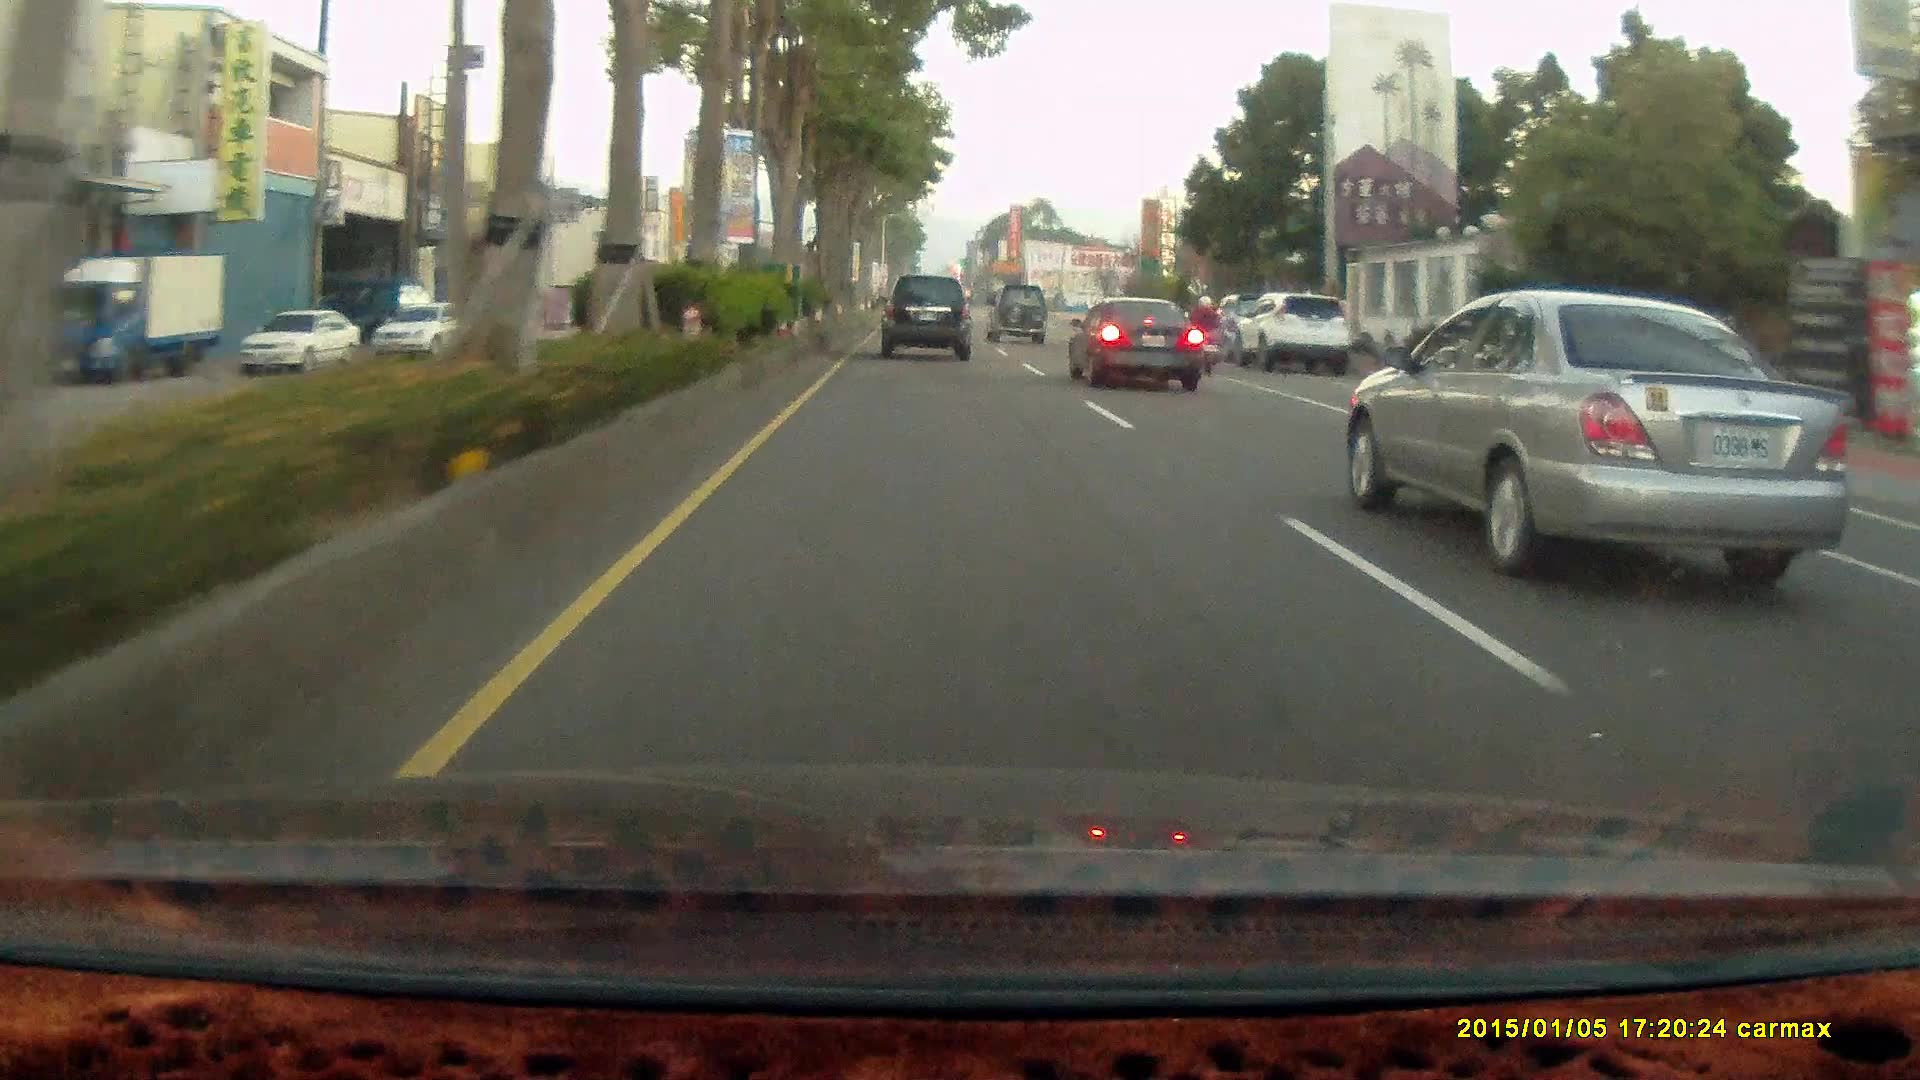rider: (1183, 293, 1220, 372)
vehicle: (1343, 292, 1852, 588), (28, 249, 230, 385), (28, 253, 231, 386), (1068, 298, 1211, 397), (1064, 296, 1204, 391), (1231, 294, 1353, 378), (1244, 296, 1355, 378), (877, 276, 976, 365), (240, 306, 362, 373), (240, 311, 362, 377), (878, 273, 971, 360), (370, 300, 476, 360), (986, 290, 1052, 352), (986, 285, 1048, 344)
